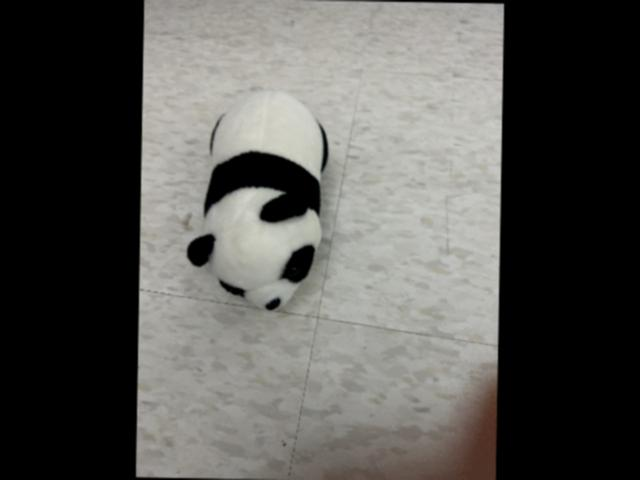panda_plushie: (186, 92, 328, 310)
